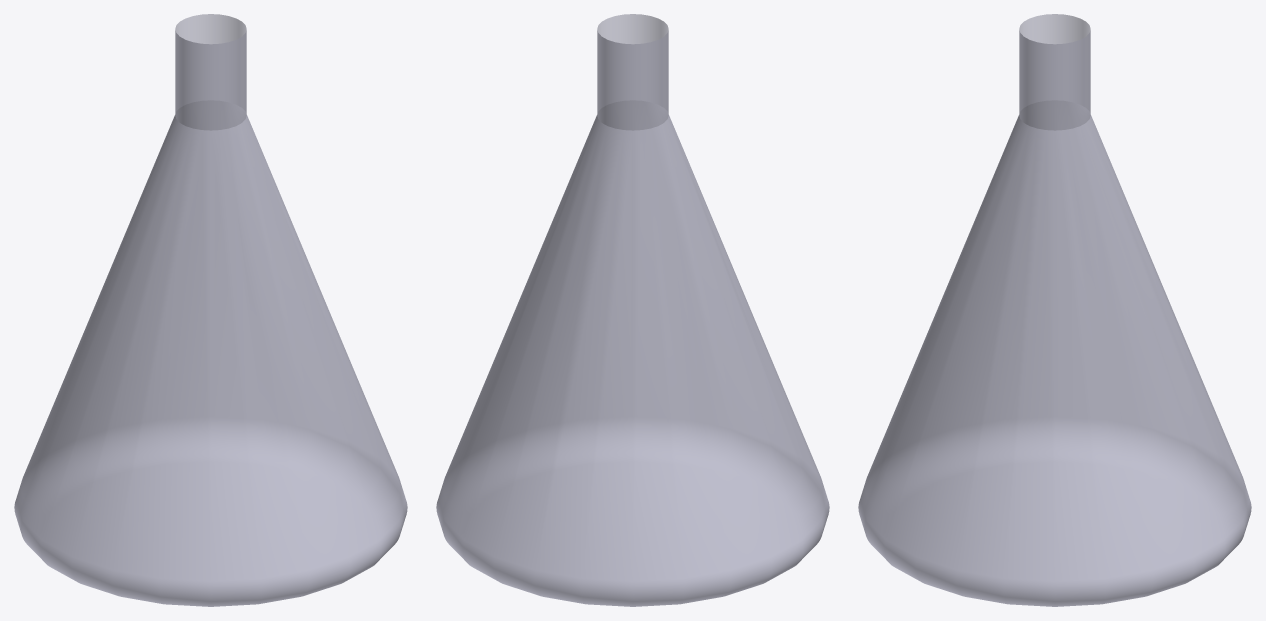
The model's file is erlenmeyer2.fbx.
3 views of the same model, side by side, from view 1: azimuth 30°, elevation 25°; view 2: azimuth 150°, elevation 25°; view 3: azimuth 270°, elevation 25° (orthographic).
Parts seen in each view (by area): view 1: Erlenmeyer; view 2: Erlenmeyer; view 3: Erlenmeyer.
Part boxes in pixels (<box>): Erlenmeyer: <box>14,14,407,606</box>; Erlenmeyer: <box>436,14,829,606</box>; Erlenmeyer: <box>858,14,1251,606</box>.
Bounding box in the file's own units: 17.52 × 24.78 × 17.52.
